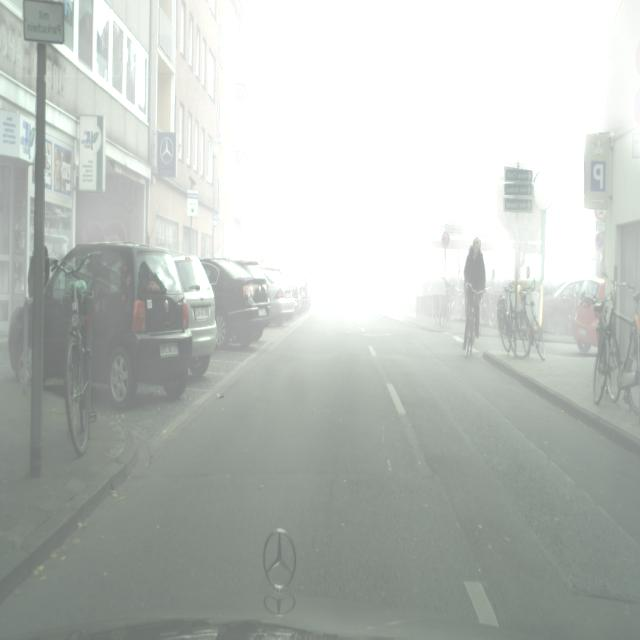bus: (7, 241, 193, 407), (200, 256, 271, 349), (173, 252, 218, 378), (573, 276, 606, 355), (543, 278, 589, 333), (260, 268, 297, 326), (284, 274, 302, 314), (295, 274, 312, 310), (325, 279, 341, 306)
car: (592, 272, 640, 414), (65, 275, 93, 457), (497, 281, 531, 358), (519, 284, 546, 361), (463, 284, 482, 357)
person: (463, 235, 486, 350)
